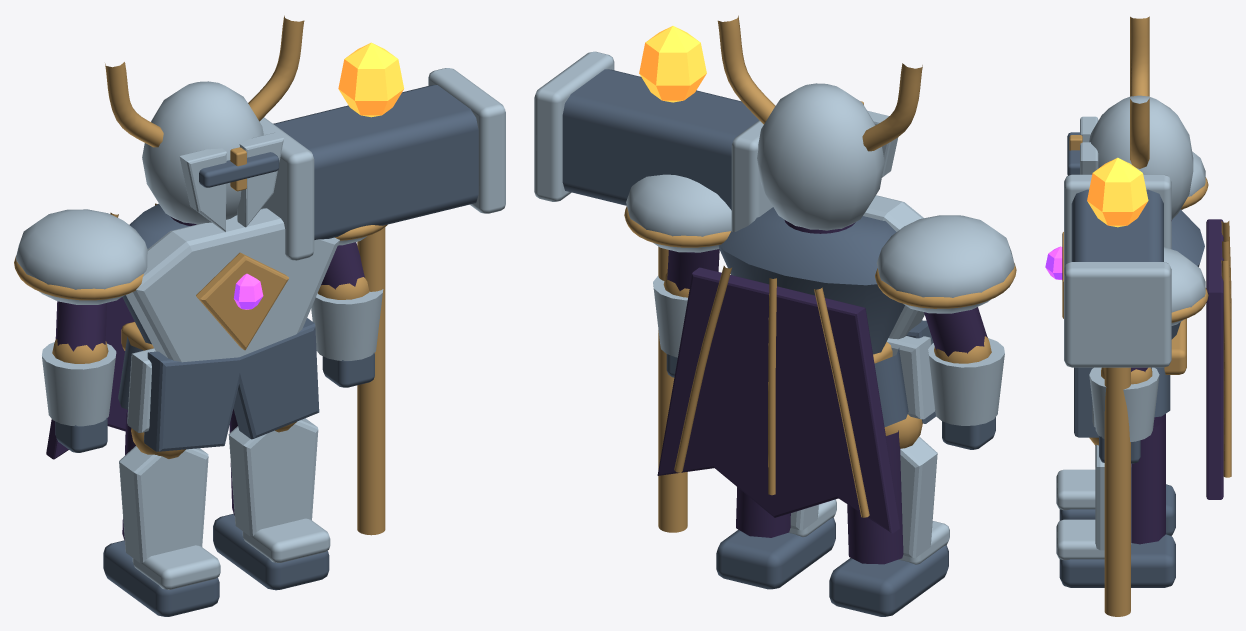
The model's file is moonsteel-convergence-dawn-breaker-ec629ffe__18171.glb.
3 renders of one model, left to right at view 1: azimuth 30°, elevation 25°; view 2: azimuth 150°, elevation 25°; view 3: azimuth 270°, elevation 25°, orthographic. The views are drawn at different scales.
Visible parts, largest first — view 1: dawn-breaker; view 2: dawn-breaker; view 3: dawn-breaker.
Boxes of the visible parts, left/top/right/bottom form: dawn-breaker: left=14, top=15, right=505, bottom=616; dawn-breaker: left=534, top=15, right=1016, bottom=616; dawn-breaker: left=1045, top=16, right=1231, bottom=616.
Bounding box in the file's own units: 2.18 × 2.5 × 0.8487.
